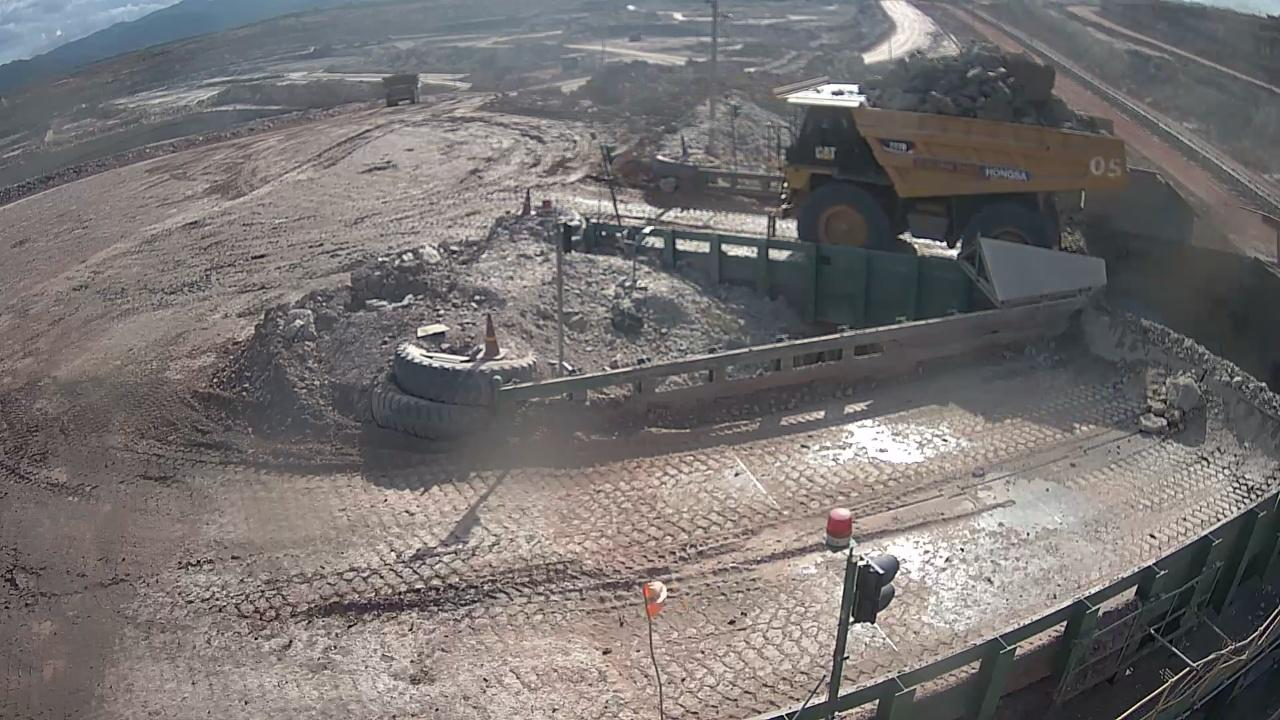full_load: (871, 44, 1079, 121)
mining_truck: (766, 37, 1139, 271)
tail_number: (1086, 147, 1126, 186)
